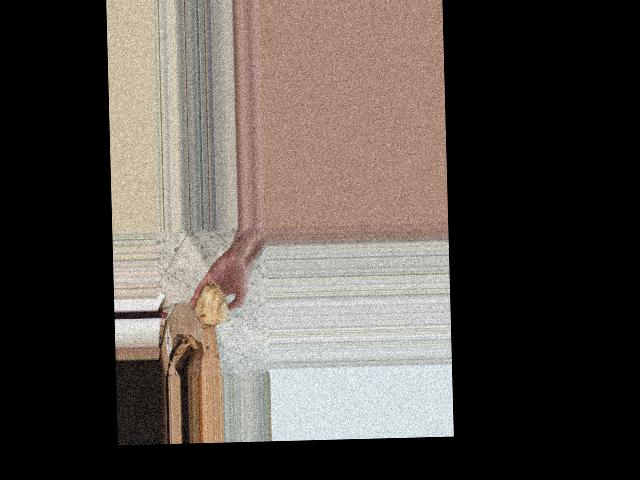onion: (191, 283, 229, 330)
